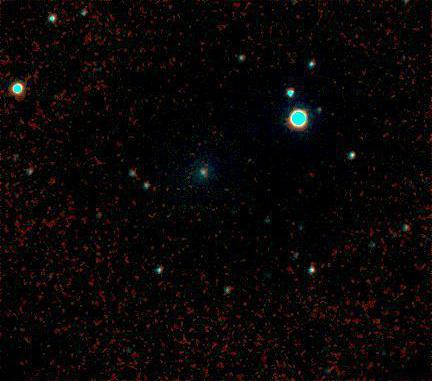star: (246, 292, 276, 322)
